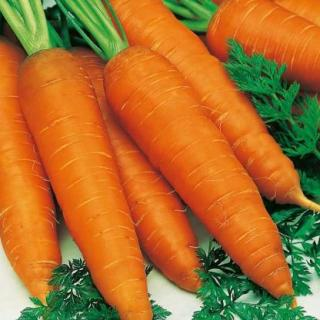Wortel: (105, 46, 295, 301), (18, 49, 157, 320)
